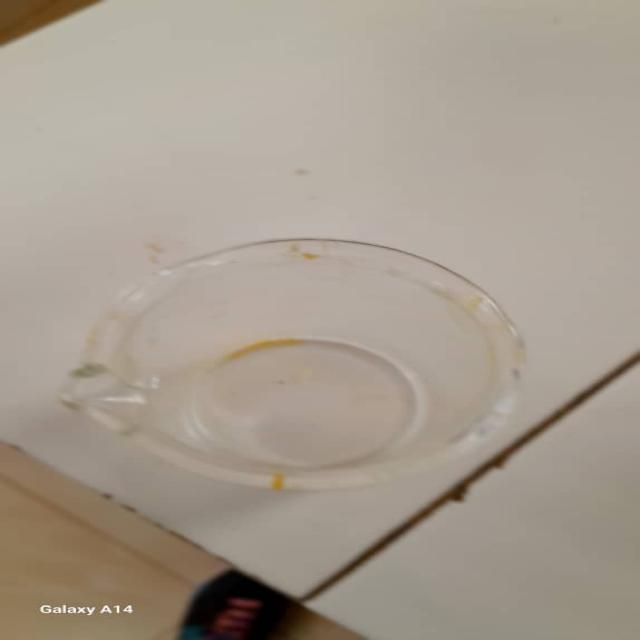Beakers: (37, 229, 540, 494)
